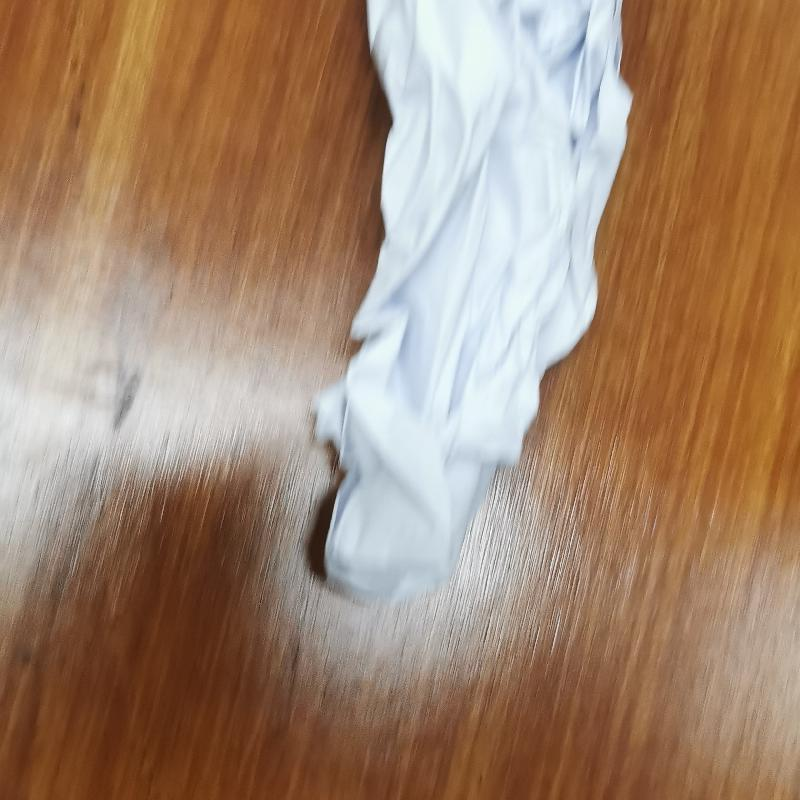spitball: (299, 1, 636, 609)
